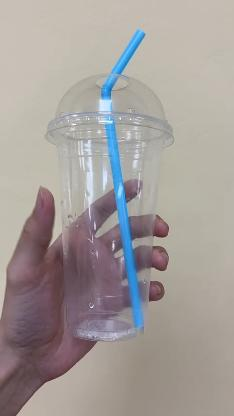Plastic Cup: (43, 69, 176, 342)
